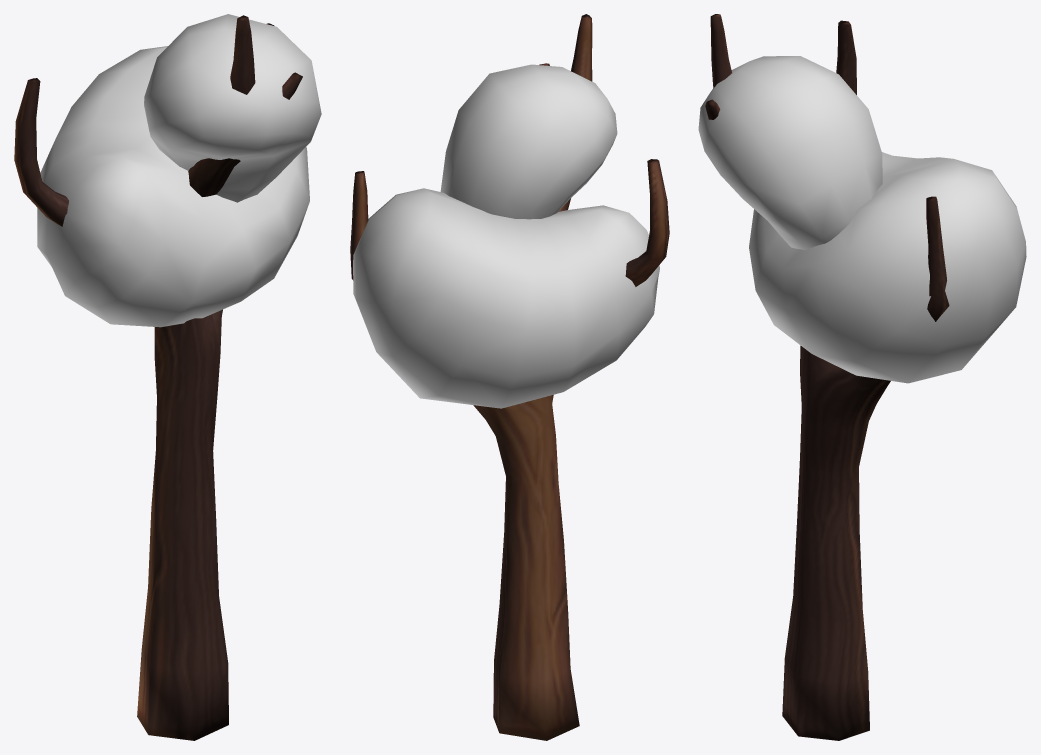
Rendered from tree5.fbx.
The picture shows the model from 3 angles, left to right: view 1: azimuth 30°, elevation 25°; view 2: azimuth 150°, elevation 25°; view 3: azimuth 270°, elevation 25°; orthographic projection. The views are drawn at different scales.
Visible parts, largest first — view 1: polySurface41; view 2: polySurface41; view 3: polySurface41.
Boxes of the visible parts, left/top/right/bottom form: polySurface41: left=14, top=14, right=321, bottom=740; polySurface41: left=350, top=14, right=669, bottom=740; polySurface41: left=698, top=14, right=1026, bottom=740.
Size of the model in its own units: 982 by 2302 by 966.
